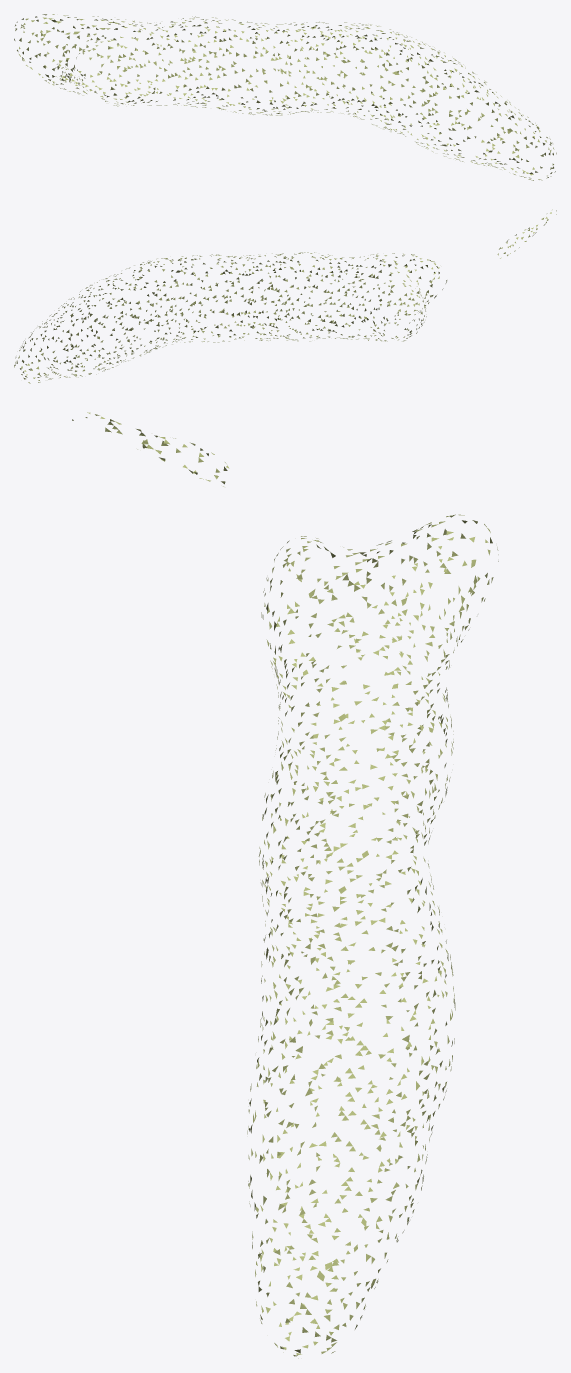
File: morph_010.glb
3 views of the same model, one above another, from view 1: azimuth 30°, elevation 25°; view 2: azimuth 150°, elevation 25°; view 3: azimuth 270°, elevation 25° (orthographic). The views are drawn at different scales.
Bounding box in the file's own units: 109 × 52.75 × 41.82.
